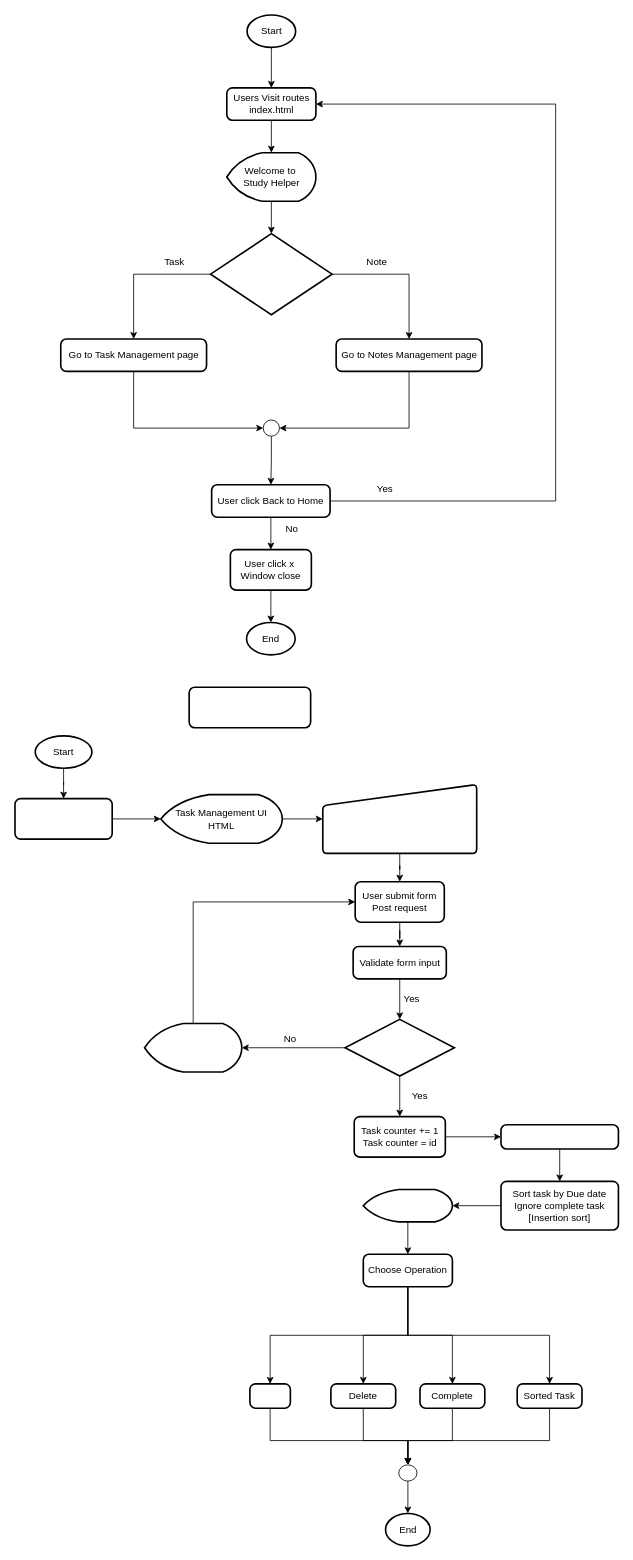
The diagram is 633 pixels wide and 1560 high, and some of its shapes have lost their labels. Here are the shapes that lost their labels. From the top down, the centre of each, then its label:
pixel 271 273: Task or Note
pixel 249 707: Task management Flow
pixel 63 818: User access Get Request /tasks
pixel 399 818: "Add Task form" Get Task name, Task Description, Due date, Priority
pixel 192 1047: Please filled out [missing input]
pixel 399 1047: If all input are filled
pixel 559 1136: Append task To task list
pixel 407 1205: sorted Task list
pixel 270 1396: Edit
